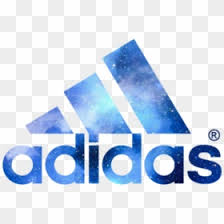adidas: (2, 40, 222, 188)
